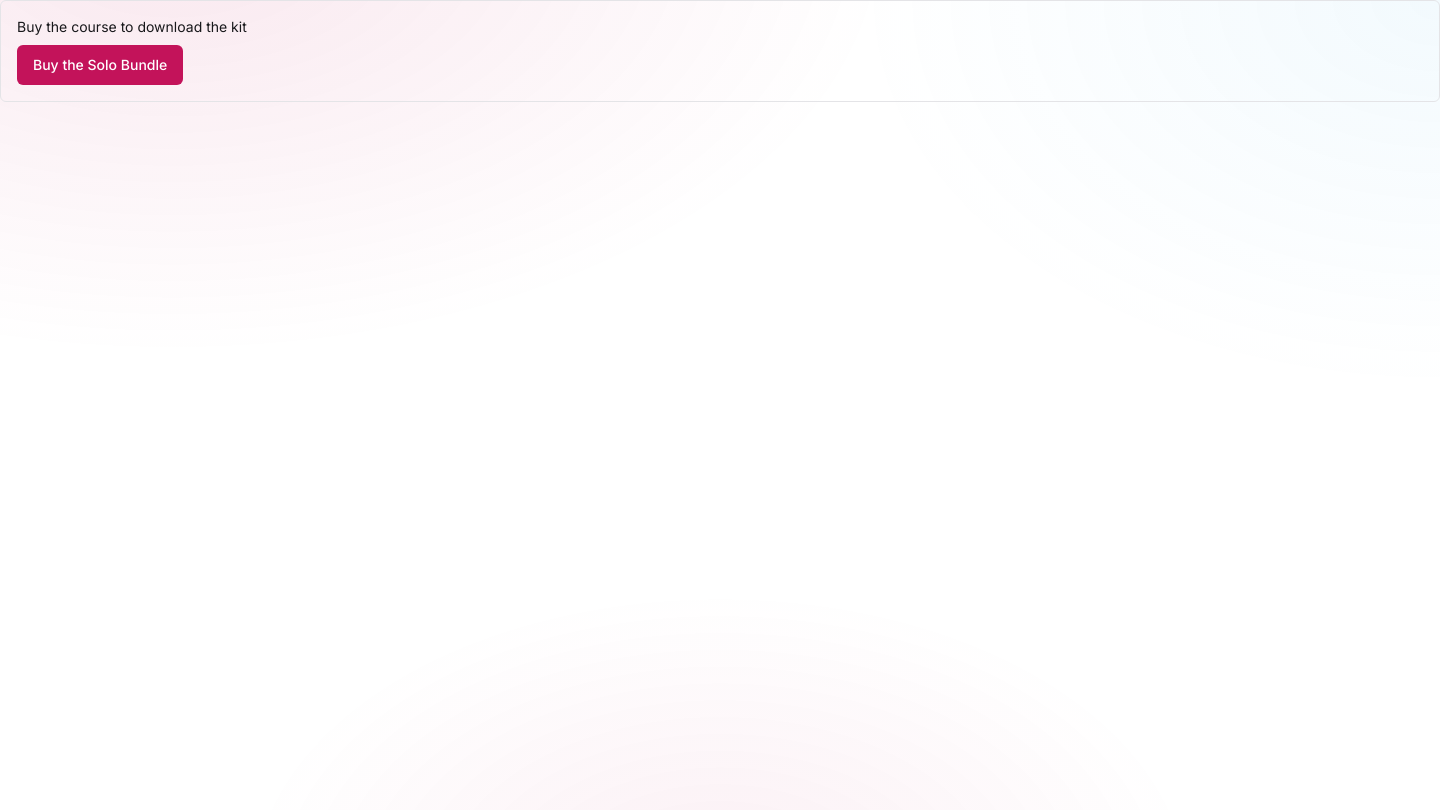
Test: AcademyKitStep › swaps Buy for the owned note when checkout resolves already_owned
This screenshot has width=1440, height=810.
Step 1. Click the button "Buy the Solo Bundle" → (100, 65), box [17,45,183,85]
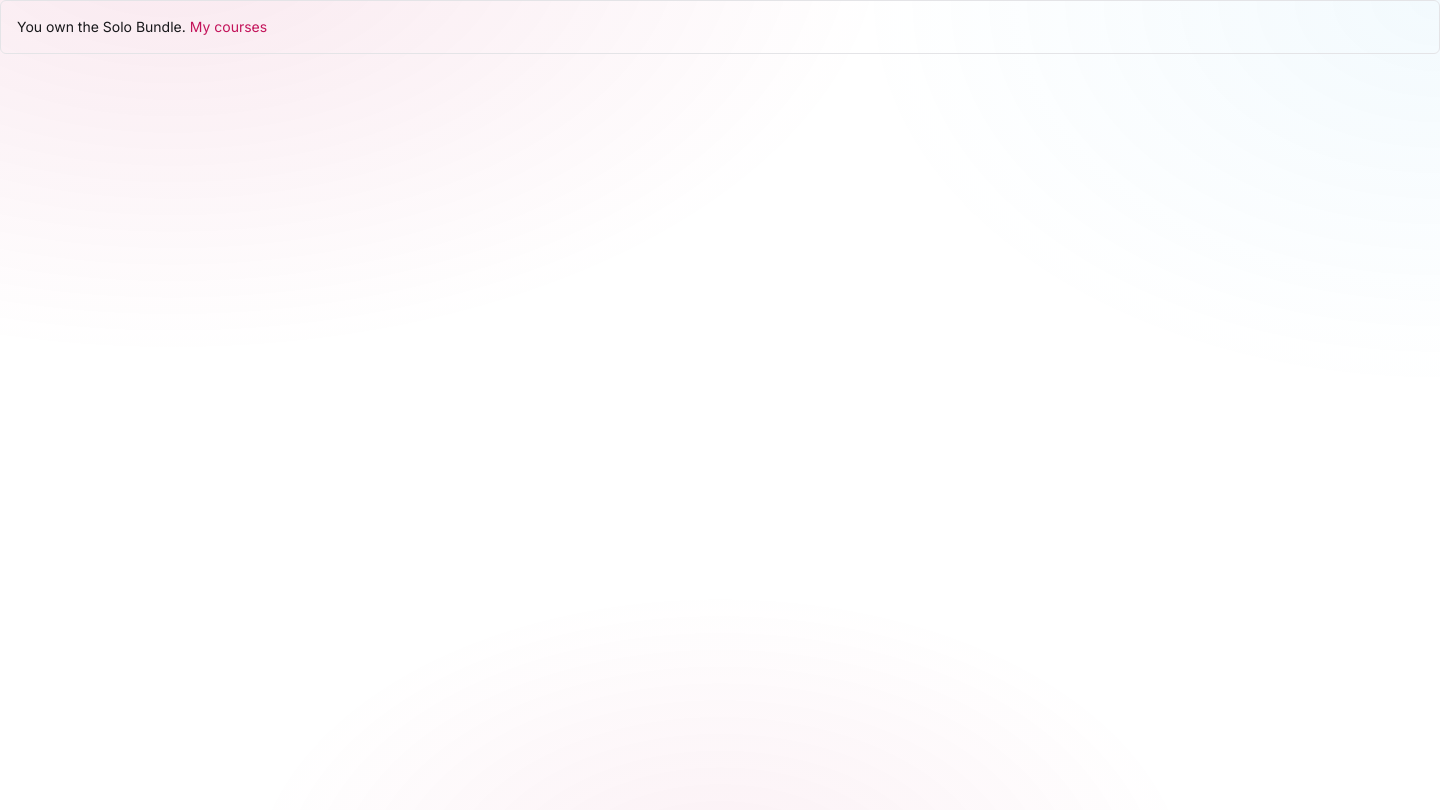
Now the text "You own the Solo Bundle." is shown, box [17,18,186,35]
Now the button "Buy the Solo Bundle" is gone
